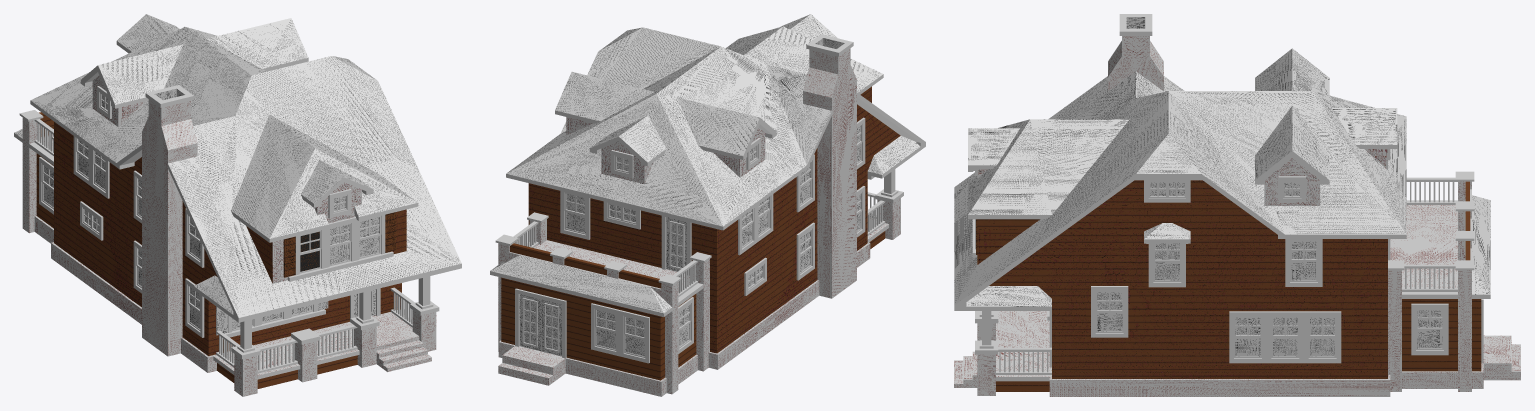
File: House6.fbx
3 views of the same model, side by side, from view 1: azimuth 30°, elevation 25°; view 2: azimuth 150°, elevation 25°; view 3: azimuth 270°, elevation 25° (orthographic). The views are drawn at different scales.
Visible parts, largest first — view 1: Group1; view 2: Group1; view 3: Group1.
Boxes of the visible parts, x1,y1,x2,y2 form: Group1: (14,14,461,396); Group1: (490,14,925,396); Group1: (954,14,1520,396).
Size of the model in its own units: 9.22 by 9.75 by 18.52.
